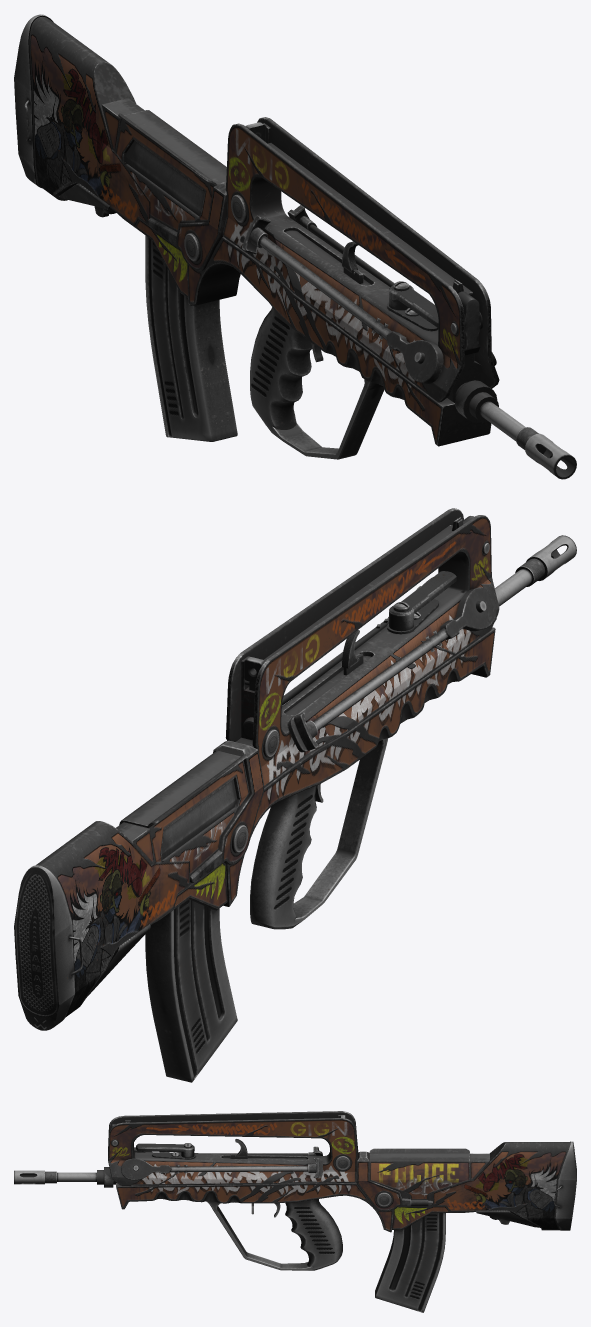
Rendered from underground.glb.
3 renders of one model, top to bottom at view 1: azimuth 30°, elevation 25°; view 2: azimuth 150°, elevation 25°; view 3: azimuth 270°, elevation 25°, orthographic. The views are drawn at different scales.
Parts seen in each view (by area): view 1: Object_2; view 2: Object_2; view 3: Object_2.
Boxes of the visible parts, bbox=[...] form: Object_2: bbox=[14, 14, 576, 479]; Object_2: bbox=[14, 508, 576, 1082]; Object_2: bbox=[14, 1111, 576, 1312].
Bounding box in the file's own units: 2.88 × 13.44 × 35.17.
1 material, 1 textured.
